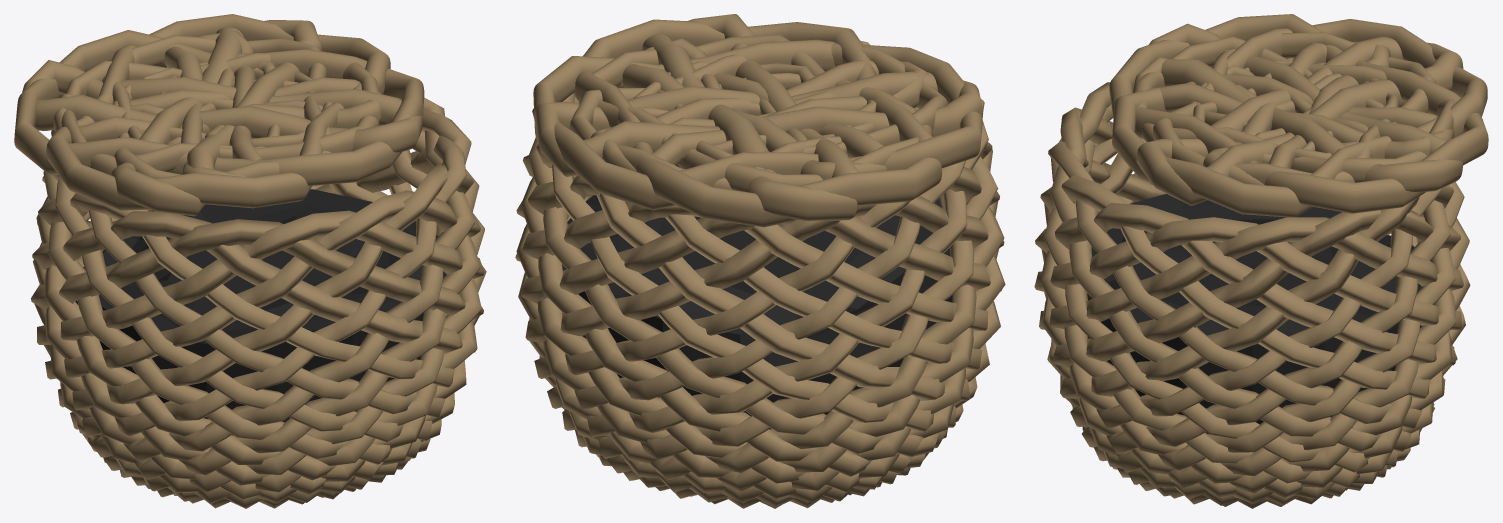
Rendered from bambu.fbx.
The picture shows the model from 3 angles, left to right: view 1: azimuth 30°, elevation 25°; view 2: azimuth 150°, elevation 25°; view 3: azimuth 270°, elevation 25°; orthographic projection. The views are drawn at different scales.
Visible parts, largest first — view 1: cesto, Celtic.001, Cube.001; view 2: cesto, Celtic.001, Cube.001; view 3: cesto, Celtic.001, Cube.001.
Part boxes in pixels (bbox=[...]): cesto: bbox=[31, 98, 486, 508]; Celtic.001: bbox=[14, 14, 424, 216]; Cube.001: bbox=[75, 189, 446, 435]; cesto: bbox=[515, 40, 1005, 508]; Celtic.001: bbox=[533, 14, 983, 227]; Cube.001: bbox=[562, 165, 952, 429]; cesto: bbox=[1034, 58, 1470, 508]; Celtic.001: bbox=[1109, 14, 1488, 217]; Cube.001: bbox=[1087, 194, 1422, 433].
Size of the model in its own units: 0.8273 by 0.6938 by 0.8217.
